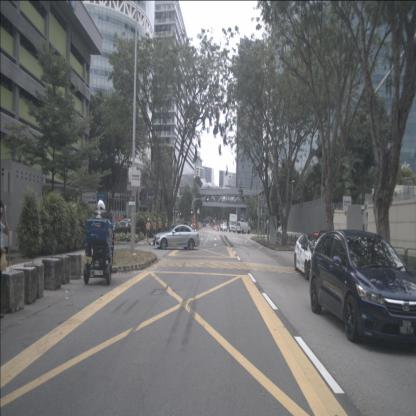human-pedestrian-adult: (0, 200, 10, 320)
vehicle-car: (309, 229, 415, 344), (294, 233, 337, 280), (154, 224, 200, 250), (236, 221, 252, 235), (118, 220, 131, 235), (222, 224, 227, 232)
vehicle-motorcycle: (83, 210, 115, 285)
vehicle-truck: (229, 214, 237, 233)
